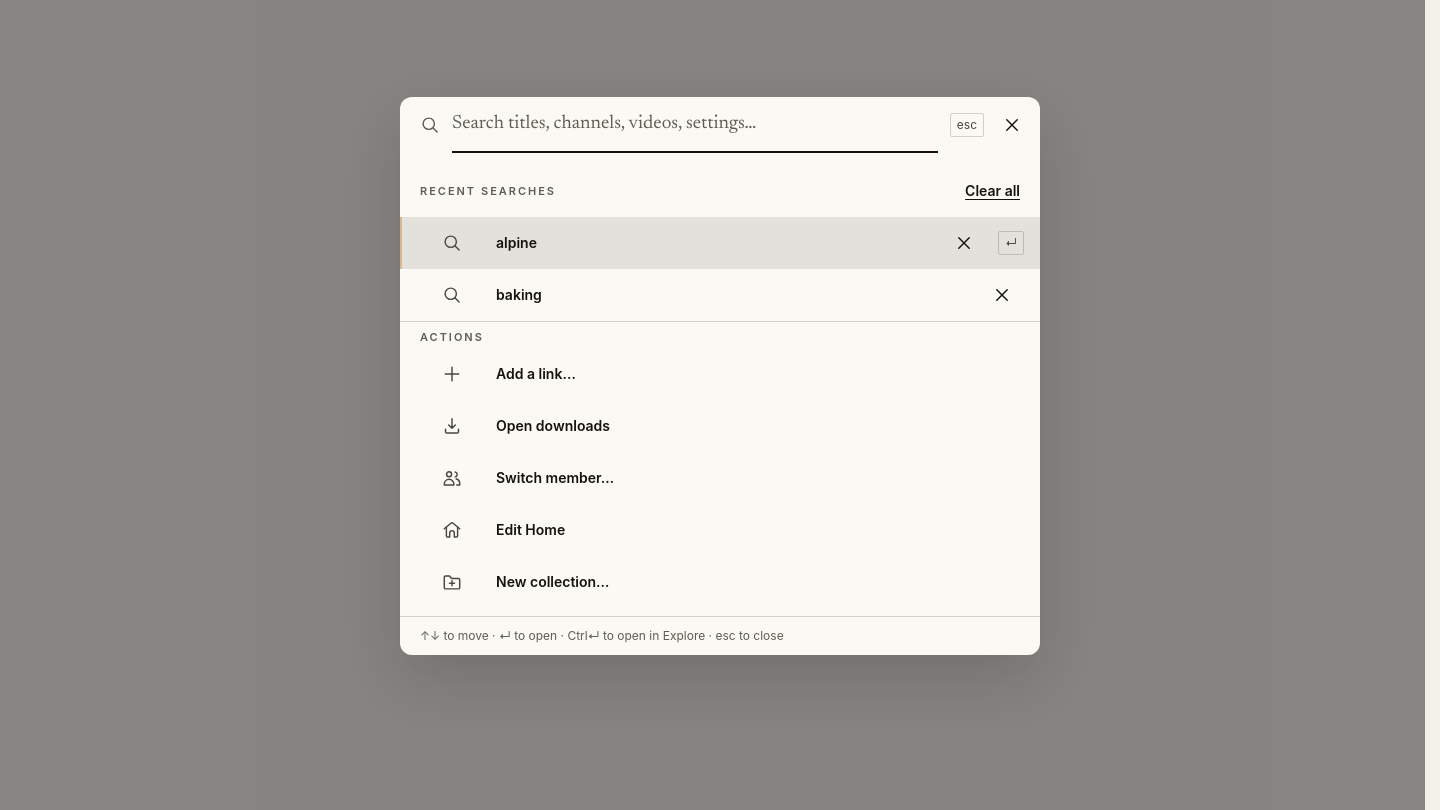
Test case: CommandPalette › renders result text as text
The width and height of the screenshot is (1440, 810).
Type "al" into the dropdown. click: (695, 125)
box: [452, 98, 938, 152]
Wait 200 ms
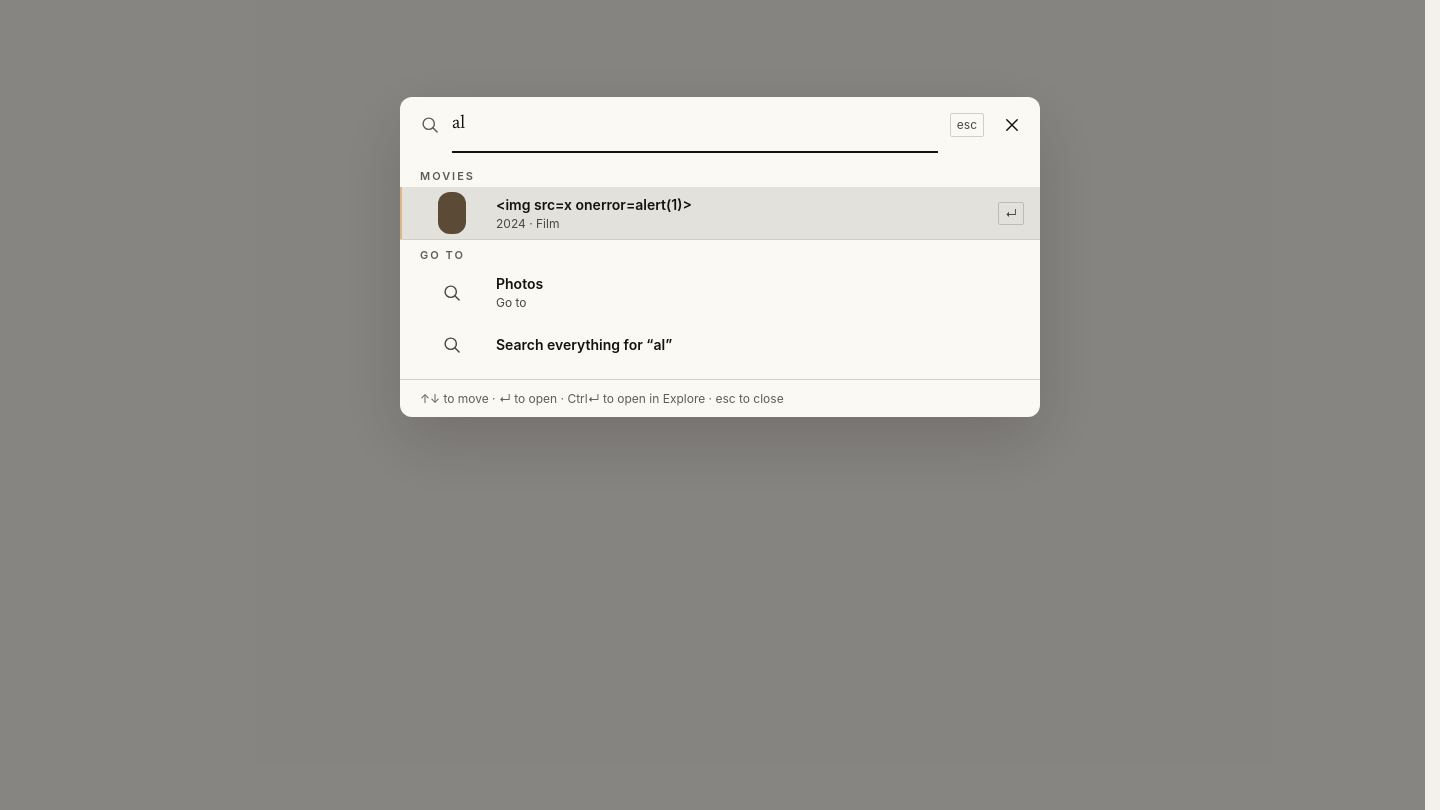
Now the text "<img src=x onerror=alert(1)>" is shown, box [496, 196, 692, 213]
